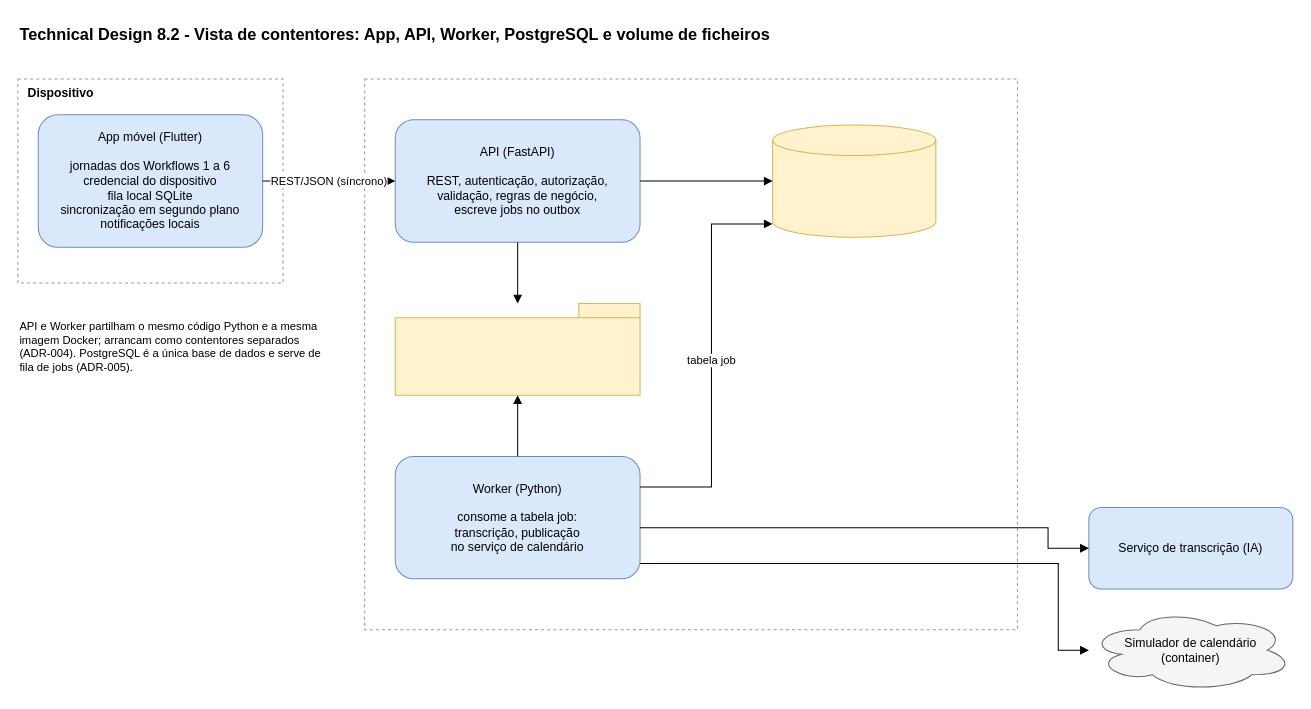
The diagram is 1311 pixels wide and 709 high, and some of its shapes have lost their labels. The shapes that lost their labels are listed below. From the top down, each one's box as (x1, y1, x2, y2) in pixels, then its label:
(772, 124, 936, 237): PostgreSQL dados + tabela job
(394, 302, 640, 395): Volume media fotos e áudios
(364, 78, 1017, 630): Backend (Docker Compose)
